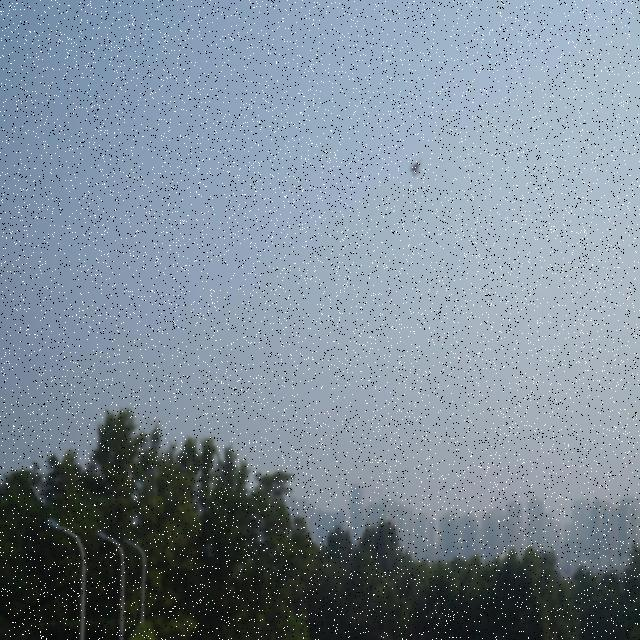UAV: (409, 159, 423, 177)
